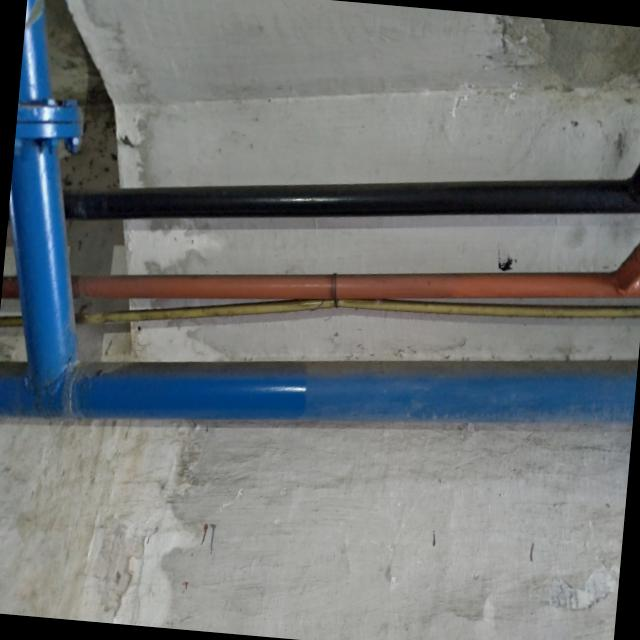gas: (0, 362, 629, 423), (66, 186, 640, 219), (14, 144, 77, 365), (71, 271, 640, 295)
